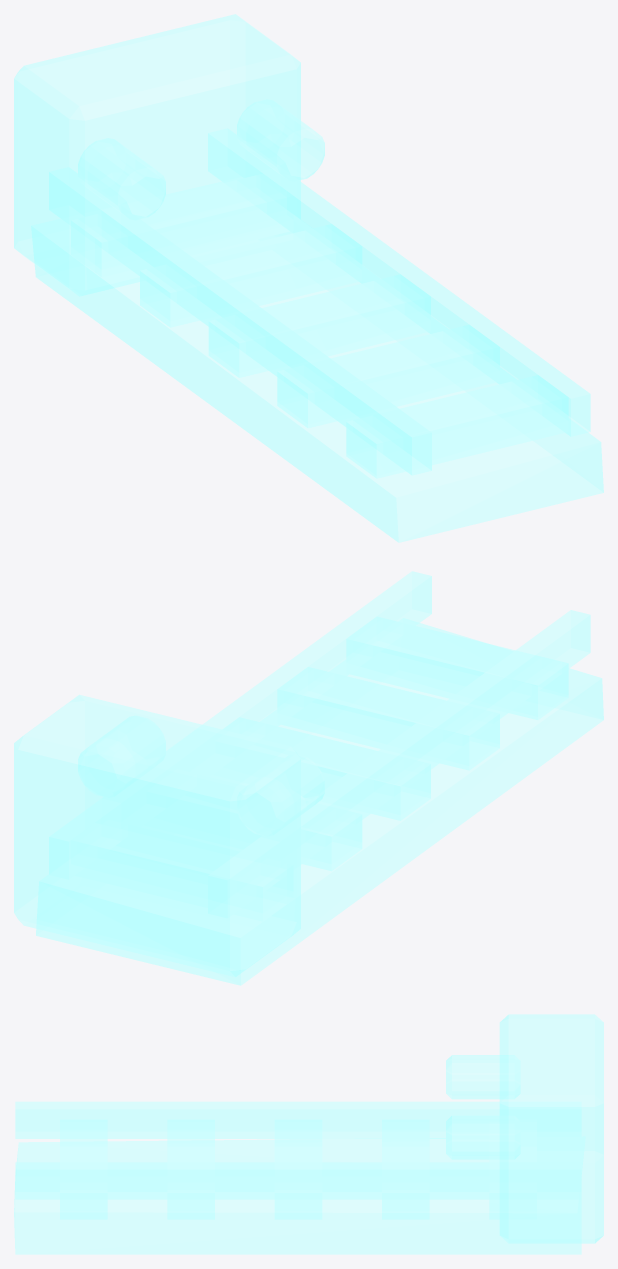
Rendered from GH_Rail_Buffer.fbx.
The picture shows the model from 3 angles, top to bottom: view 1: azimuth 30°, elevation 25°; view 2: azimuth 150°, elevation 25°; view 3: azimuth 270°, elevation 25°; orthographic projection. The views are drawn at different scales.
Visible parts, largest first — view 1: SM_Rail_Buffer; view 2: SM_Rail_Buffer; view 3: SM_Rail_Buffer.
Boxes of the visible parts, x1,y1,x2,y2 form: SM_Rail_Buffer: [14, 14, 603, 542]; SM_Rail_Buffer: [14, 571, 603, 985]; SM_Rail_Buffer: [14, 1014, 603, 1254].
Size of the model in its own units: 0.7 by 0.595 by 1.98.
